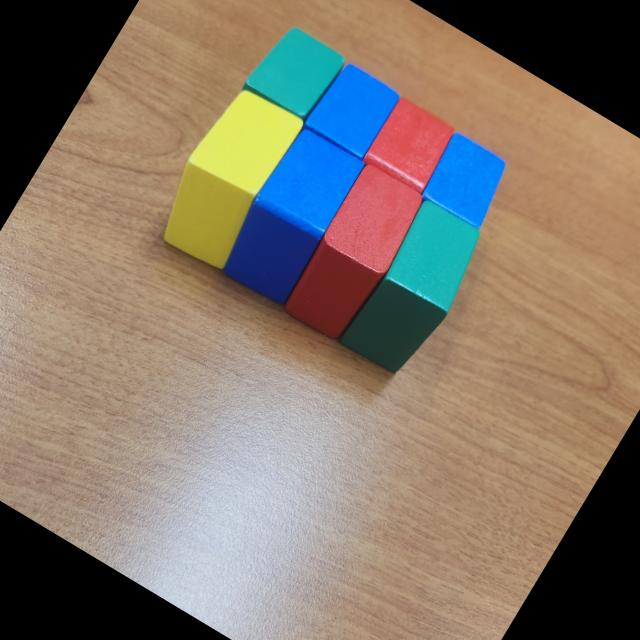blue: (212, 122, 369, 310), (296, 57, 404, 169), (415, 129, 518, 233)
green: (336, 196, 494, 384), (240, 18, 351, 128)
red: (278, 160, 428, 344), (358, 94, 459, 198)
yellow: (146, 80, 308, 274)
